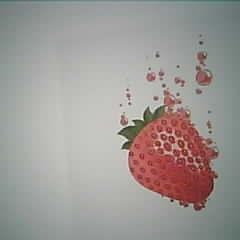straw-ripe: (127, 113, 213, 202)
